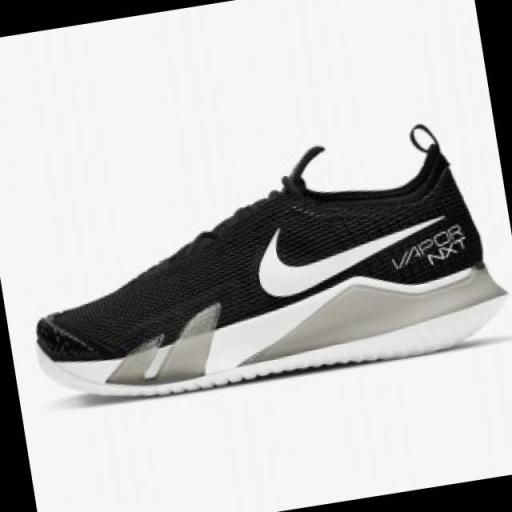Nike: (246, 200, 462, 303)
